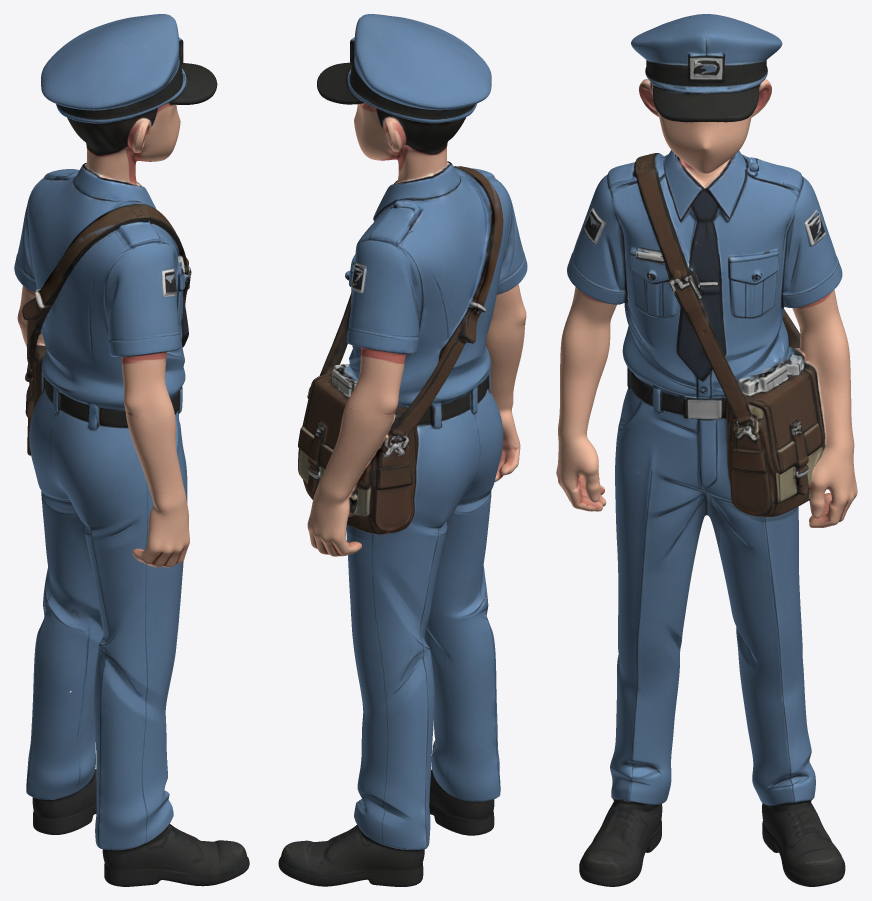
Rendered from police+officer+3d+model.glb.
The picture shows the model from 3 angles, left to right: view 1: azimuth 30°, elevation 25°; view 2: azimuth 150°, elevation 25°; view 3: azimuth 270°, elevation 25°; orthographic projection. The views are drawn at different scales.
Parts seen in each view (by area): view 1: tripo_node_64de78a0-6b16-4f29-b9ad-52d2d2eeca6a; view 2: tripo_node_64de78a0-6b16-4f29-b9ad-52d2d2eeca6a; view 3: tripo_node_64de78a0-6b16-4f29-b9ad-52d2d2eeca6a.
Boxes of the visible parts, <box> form: tripo_node_64de78a0-6b16-4f29-b9ad-52d2d2eeca6a: <box>14,14,249,886</box>; tripo_node_64de78a0-6b16-4f29-b9ad-52d2d2eeca6a: <box>278,14,527,886</box>; tripo_node_64de78a0-6b16-4f29-b9ad-52d2d2eeca6a: <box>556,14,857,886</box>.
Bounding box in the file's own units: 0.2132 × 1 × 0.323.
1 material, 1 textured.
